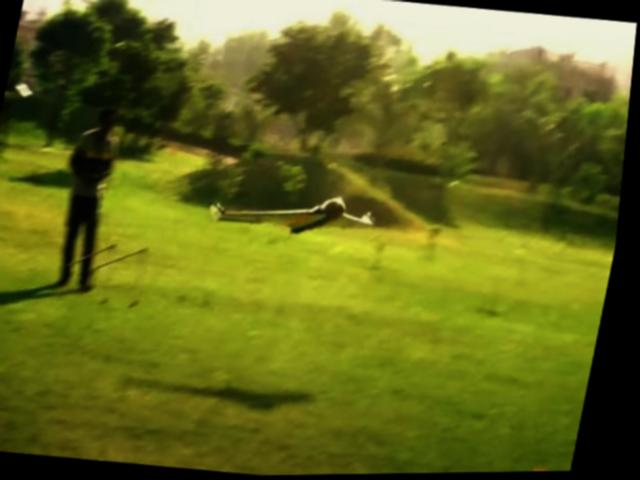iha: (205, 172, 390, 246)
